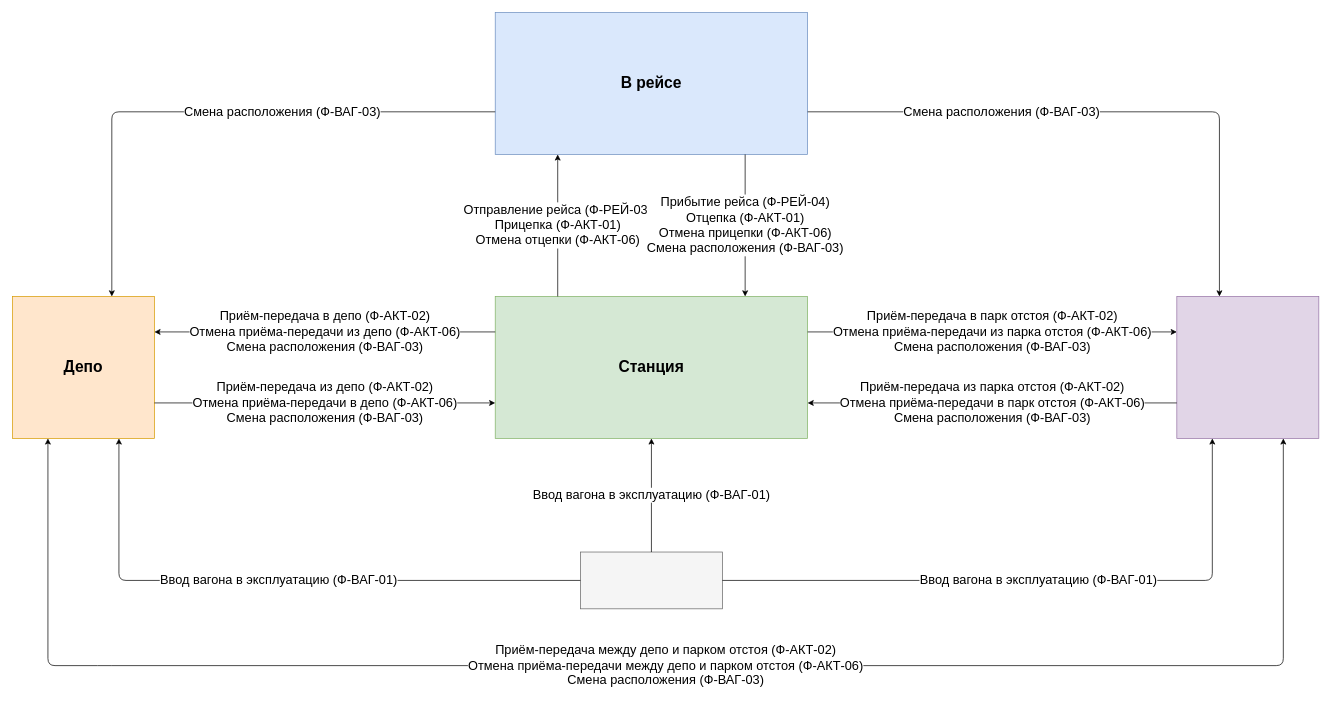
This 1331x701 diagram has some shape labels left out. Each missing label, with the centre of its shape:
"Новый вагон" belongs at [651,580].
"Парк отстоя" belongs at [1247,367].
